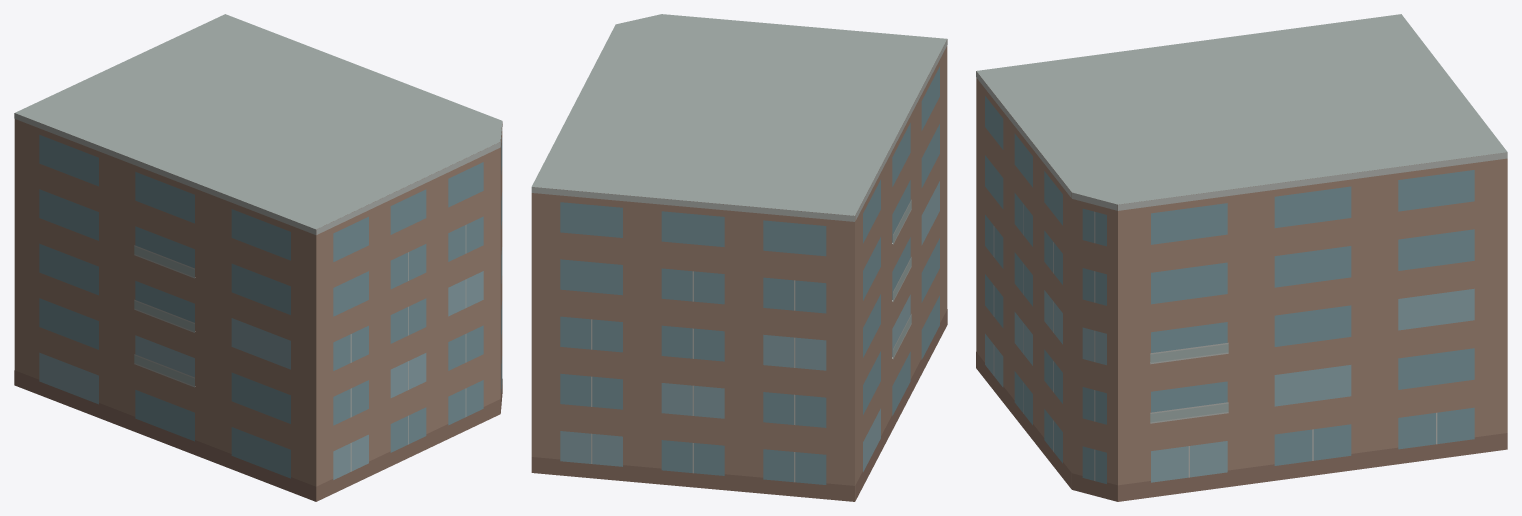
The model's file is survey-upis-32612697.glb.
3 views of the same model, side by side, from view 1: azimuth 30°, elevation 25°; view 2: azimuth 150°, elevation 25°; view 3: azimuth 270°, elevation 25° (orthographic). The views are drawn at different scales.
Visible parts, largest first — view 1: survey-upis-32612697.tmp; view 2: survey-upis-32612697.tmp; view 3: survey-upis-32612697.tmp.
Part boxes in pixels (x1=…): survey-upis-32612697.tmp: x1=14, y1=14, x2=502, y2=501; survey-upis-32612697.tmp: x1=531, y1=14, x2=947, y2=501; survey-upis-32612697.tmp: x1=976, y1=14, x2=1507, y2=501.
Size of the model in its own units: 15.82 by 11.5 by 18.65.
